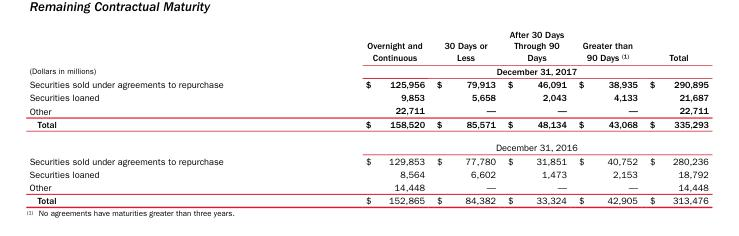table: (28, 28, 707, 205)
table column: (28, 28, 293, 205), (293, 28, 430, 205), (500, 28, 571, 205), (571, 28, 642, 205), (430, 28, 500, 205), (642, 28, 707, 205)
table column header: (28, 28, 707, 63)
table row: (28, 28, 707, 63), (28, 116, 707, 135), (28, 135, 707, 153), (28, 63, 707, 77), (28, 166, 707, 180), (28, 77, 707, 90), (28, 90, 707, 103), (28, 103, 707, 116), (28, 153, 707, 166), (28, 180, 707, 193), (28, 193, 707, 205)
table spanning cell: (293, 135, 707, 153), (293, 63, 707, 77)
